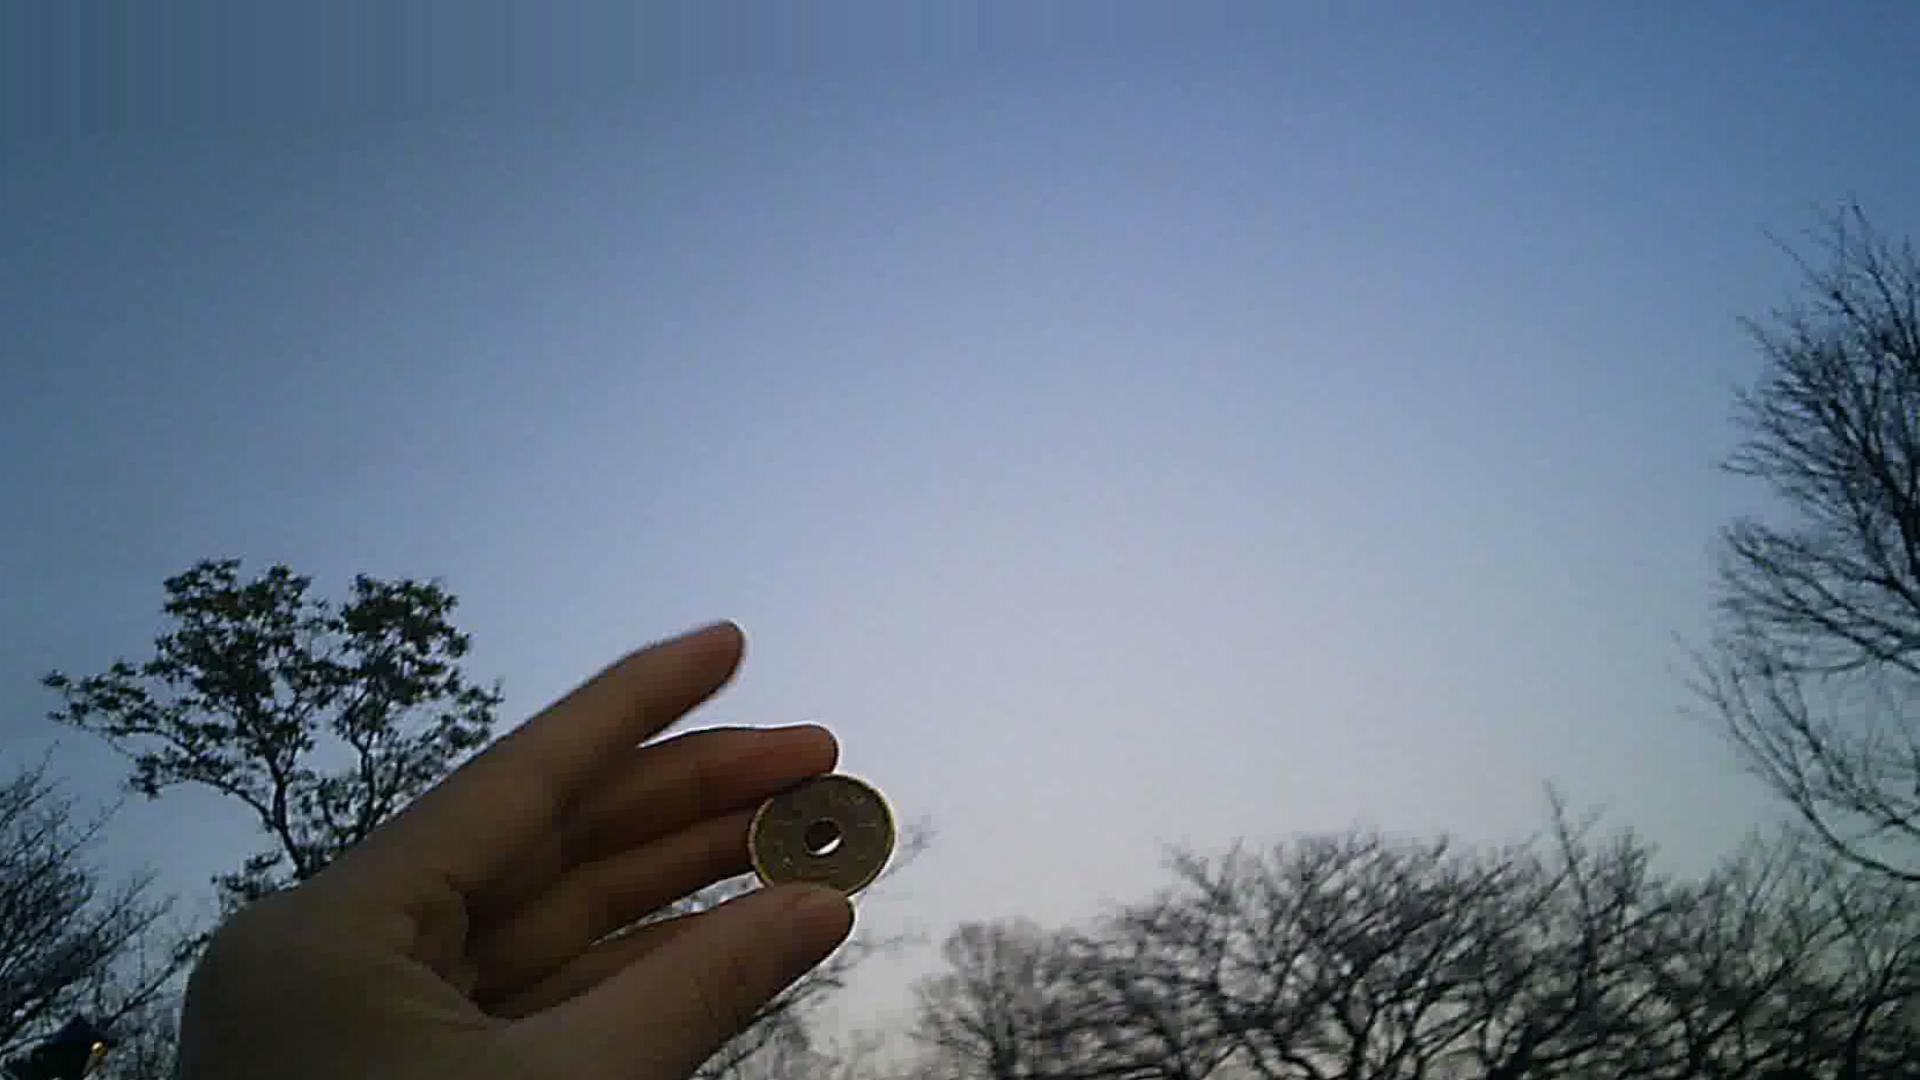5 Yen: (745, 760, 884, 889)
